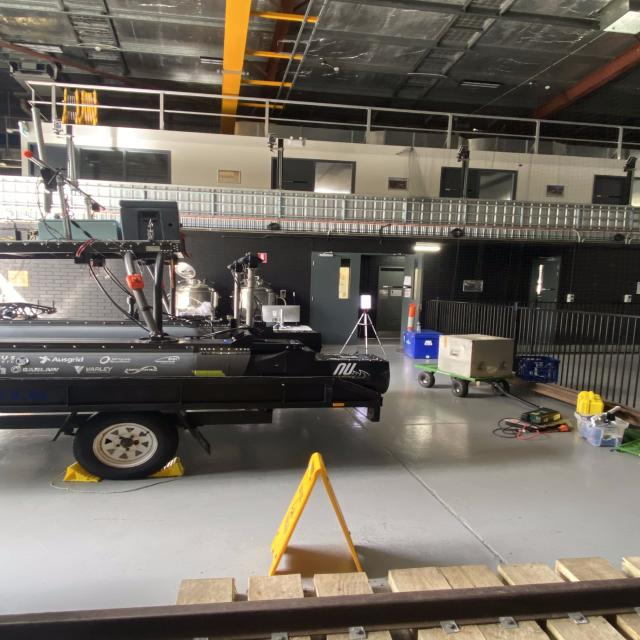matrix: (359, 294, 372, 310)
